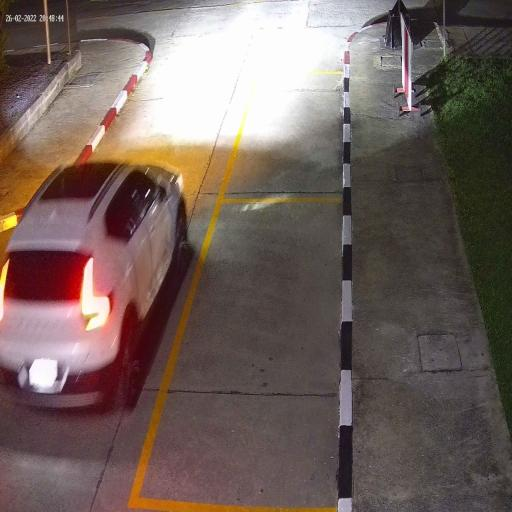car: (0, 159, 188, 415)
